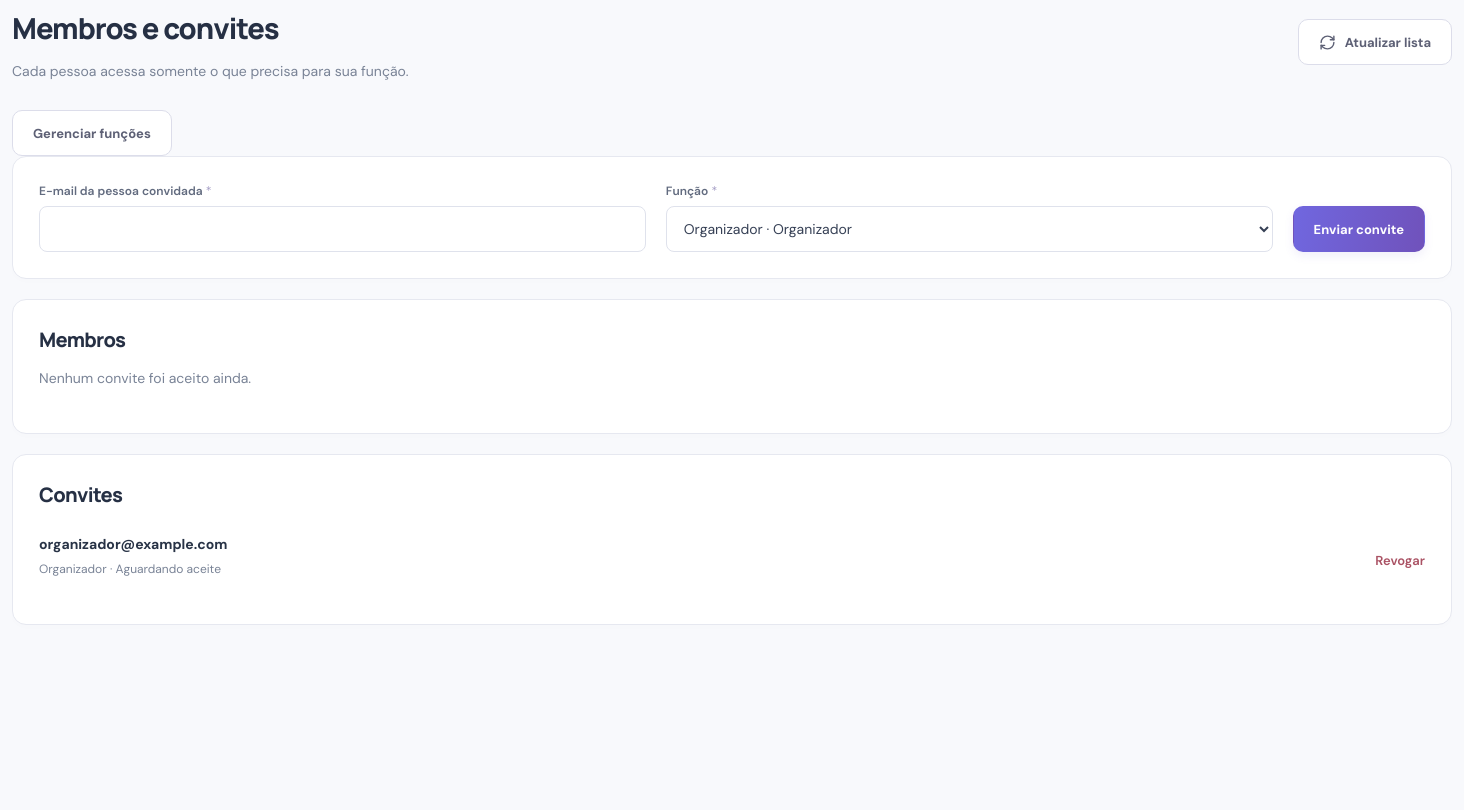
Scenario: Lista de membros após aceite em outra aba › permite atualizar manualmente sem aceitar o convite novamente
The width and height of the screenshot is (1464, 810).
expect the text "Organizador · Aguardando aceite" is shown: met, box x1=39 y1=559 x2=228 y2=579
Click the button "Atualizar lista": (1375, 42) x1=1298 y1=19 x2=1452 y2=65
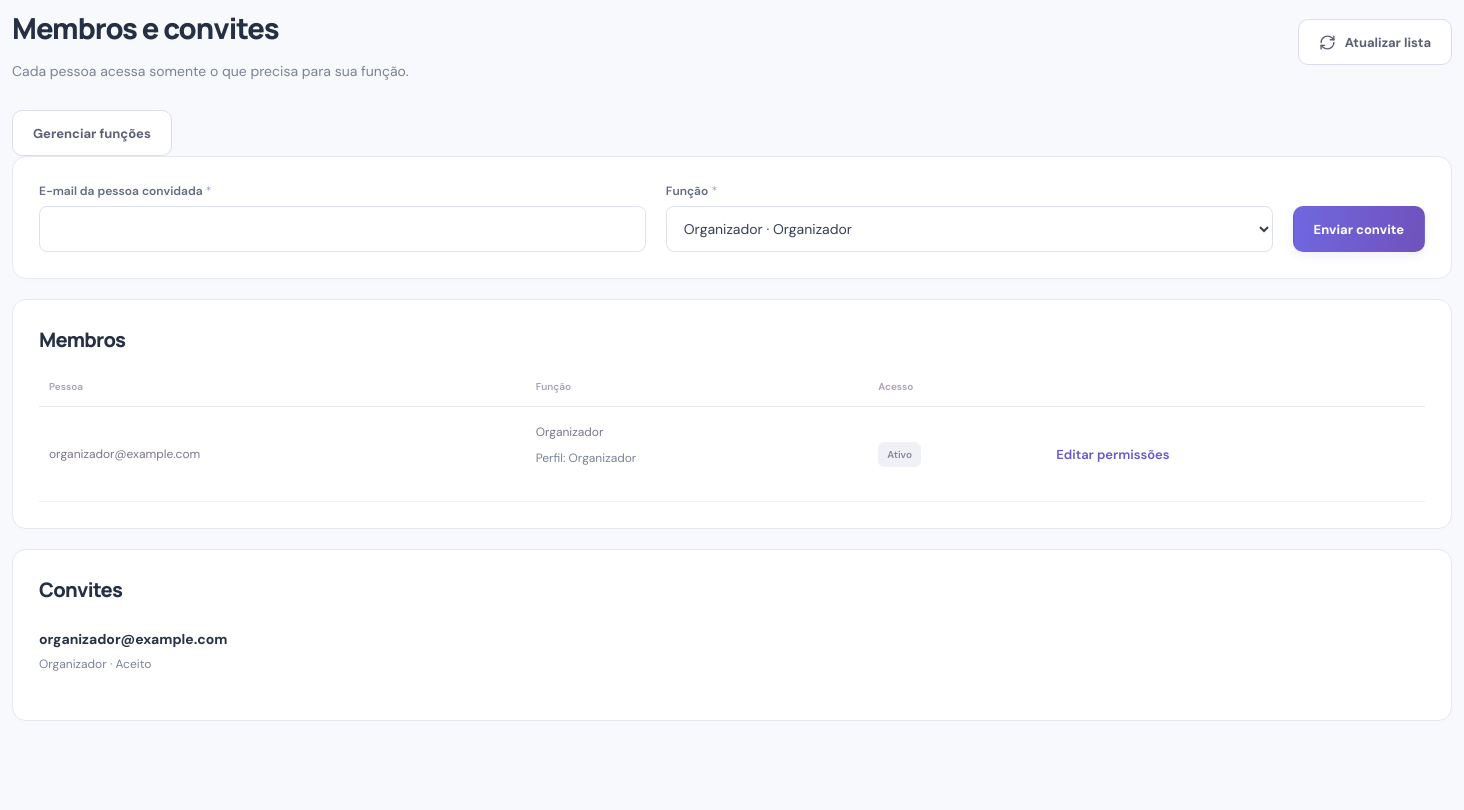
expect the text "Organizador · Aceito" is shown: met, box x1=39 y1=656 x2=151 y2=672
expect the text "organizador@example.com" is shown: met, box x1=39 y1=406 x2=526 y2=502
expect the text "Aguardando aceite" is gone: met
